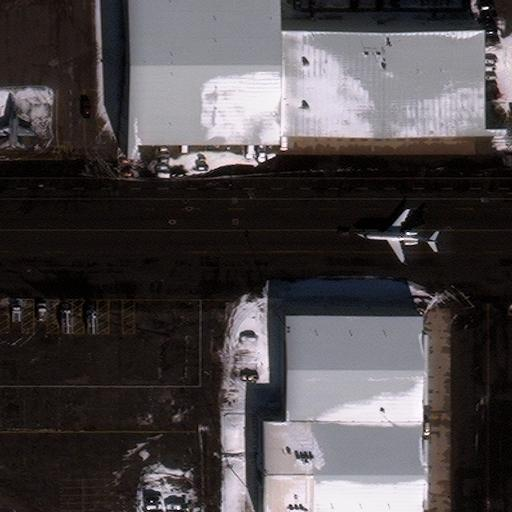Medium Civil Transport: (358, 209, 437, 262)
